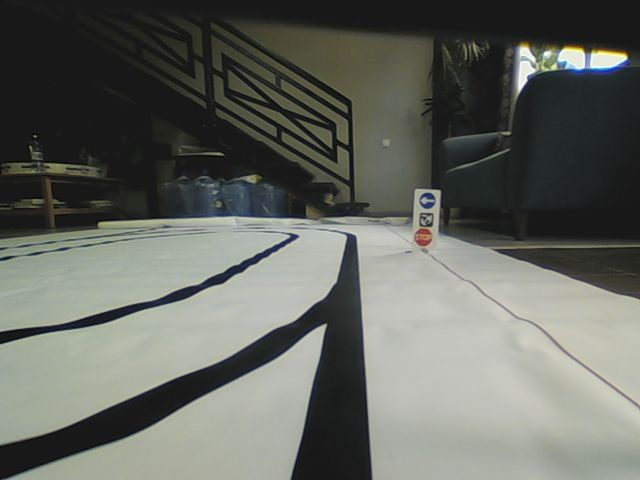Stop: (415, 228, 433, 247)
